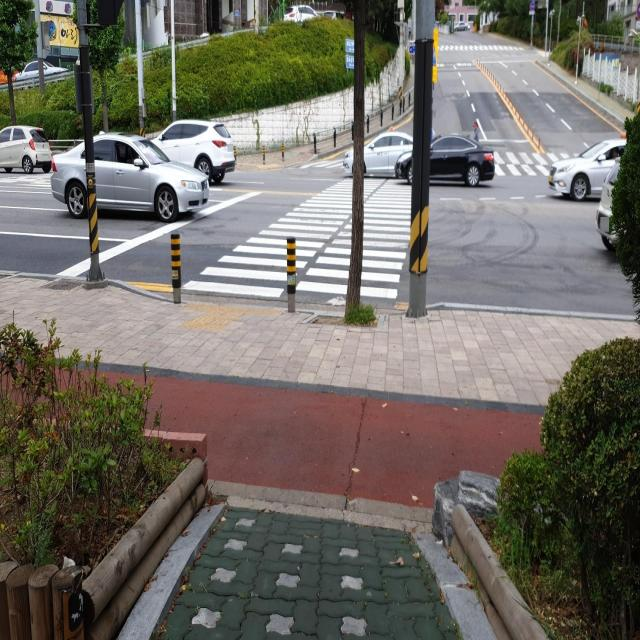횡단보도: (179, 176, 414, 301), (493, 146, 579, 178), (441, 38, 526, 58)
